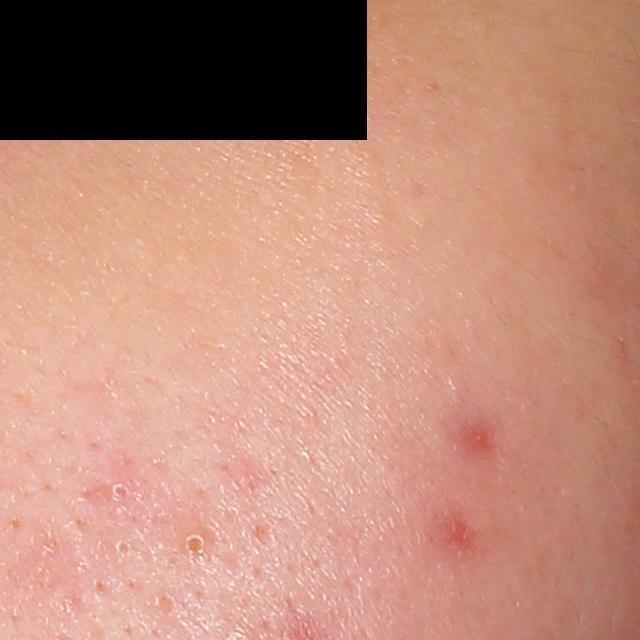comedo: (176, 527, 215, 563), (106, 473, 135, 502), (112, 538, 143, 565)
